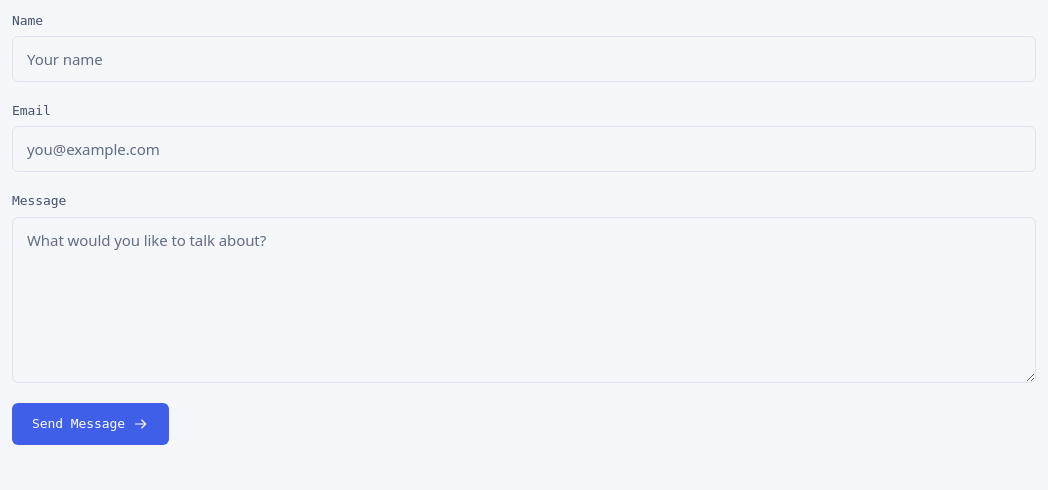
Test: ContactForm › sends the message and reports success only when the response is ok
In the field labelled "Name": (524, 59) [12,36,1036,82], type "Ada Lovelace"
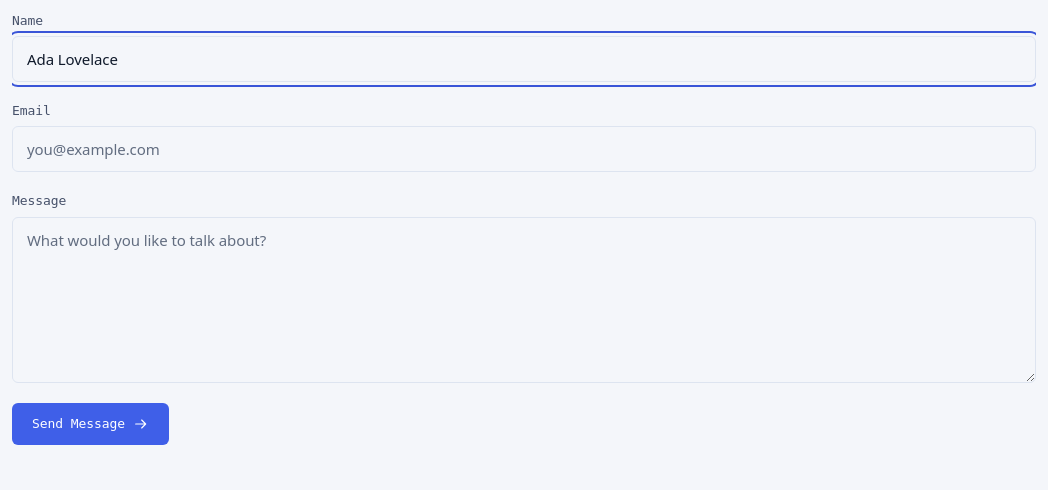
In the field labelled "Email": (524, 149) [12,126,1036,172], type "ada@example.com"
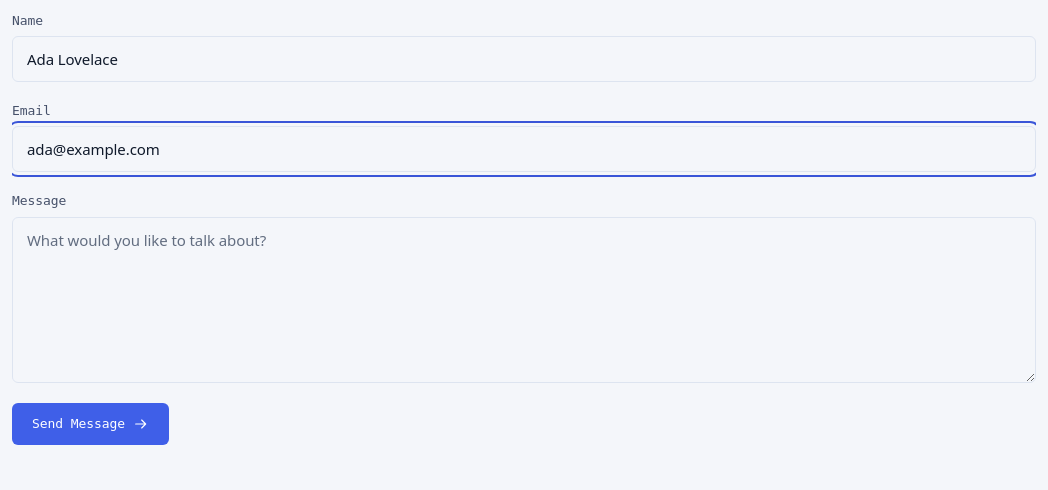
In the text box labelled "Message": (524, 300) [12,217,1036,383], type "Hello from the tests."
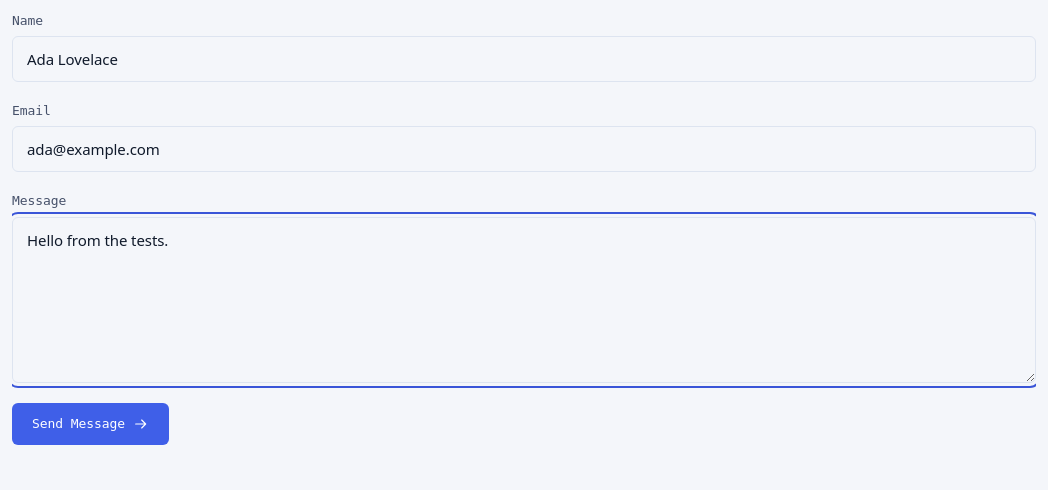
Click the button "Send Message": (90, 424) [12,403,169,445]
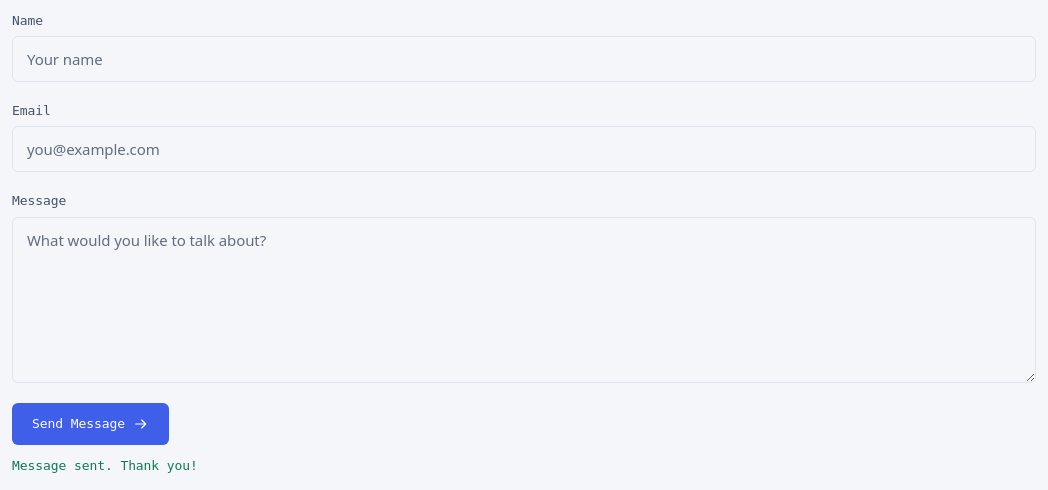
Now the text "Message sent. Thank you!" is shown, box [12,458,198,473]
Now the field labelled "Name" is empty, box [12,36,1036,82]
Now the field labelled "Email" is empty, box [12,126,1036,172]
